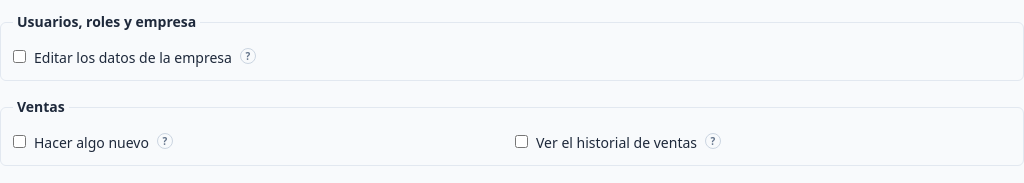
it: PermissionPicker › each permission has a help icon that summarises what it allows
Click the button named "Ayuda sobre: Editar los datos de la empresa" at (248, 56), box [240,48,256,64]
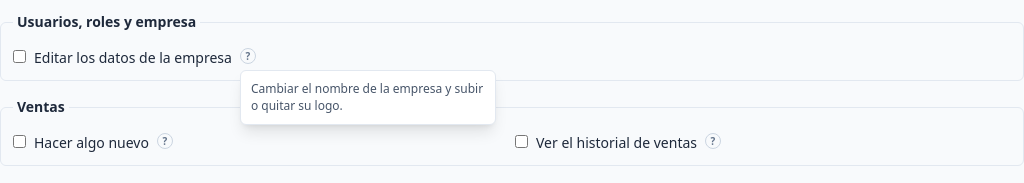
Expected: the tooltip "Cambiar el nombre de la empresa y subir o quitar su logo." is shown, [240,70,496,125]
